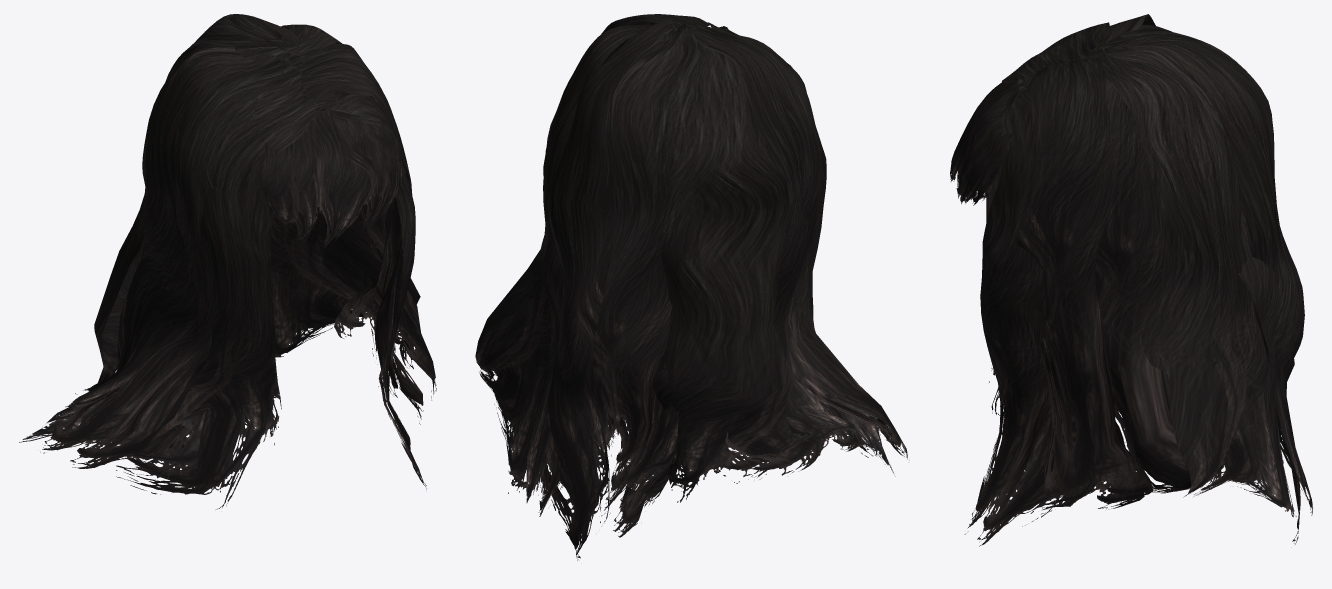
File: mh_sonntag78_junglebook_hair.glb
3 renders of one model, left to right at view 1: azimuth 30°, elevation 25°; view 2: azimuth 150°, elevation 25°; view 3: azimuth 270°, elevation 25°, orthographic. The views are drawn at different scales.
Visible parts, largest first — view 1: mh_sonntag78_junglebook_hair; view 2: mh_sonntag78_junglebook_hair; view 3: mh_sonntag78_junglebook_hair.
Boxes of the visible parts, x1,y1,x2,y2 form: mh_sonntag78_junglebook_hair: (19, 14, 436, 509); mh_sonntag78_junglebook_hair: (475, 14, 909, 560); mh_sonntag78_junglebook_hair: (950, 14, 1313, 546).
Size of the model in its own units: 0.361 by 0.4129 by 0.2705.
Materials: 1 (1 with a texture image).
